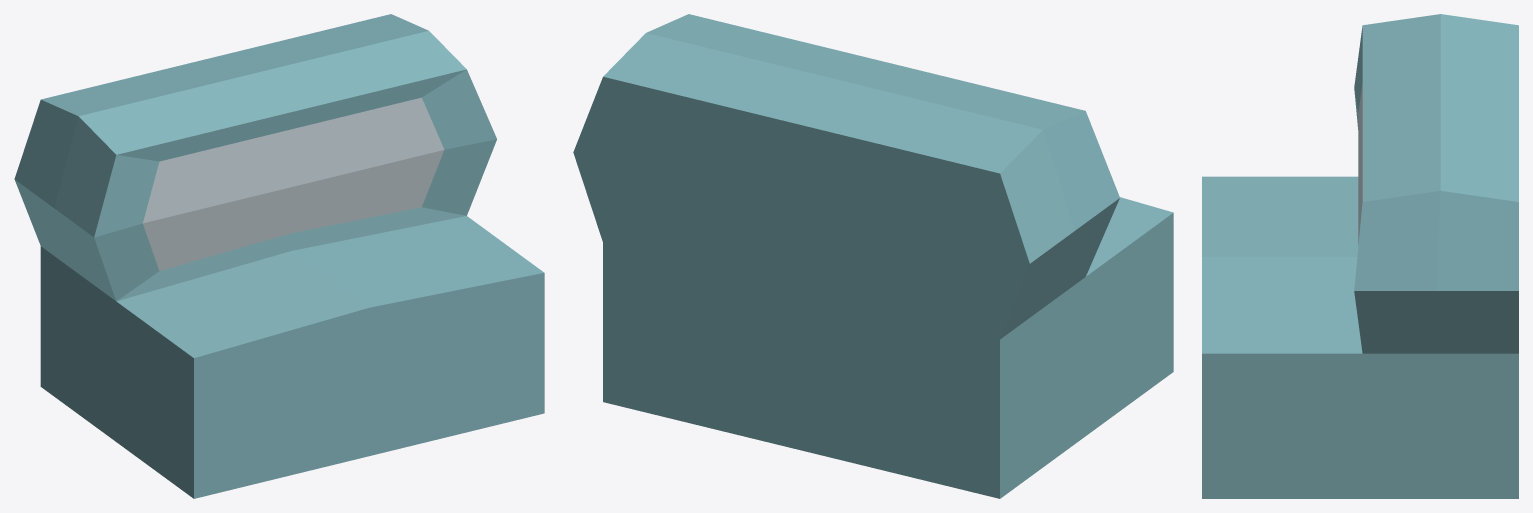
The model's file is sofa.fbx.
3 renders of one model, left to right at view 1: azimuth 30°, elevation 25°; view 2: azimuth 150°, elevation 25°; view 3: azimuth 270°, elevation 25°, orthographic. The views are drawn at different scales.
Visible parts, largest first — view 1: sofa canjunto.002; view 2: sofa canjunto.002; view 3: sofa canjunto.002.
Boxes of the visible parts, x1,y1,x2,y2 form: sofa canjunto.002: (14,14,544,498); sofa canjunto.002: (573,14,1173,498); sofa canjunto.002: (1202,14,1518,498).
Bounding box in the file's own units: 600 × 424 × 395.
